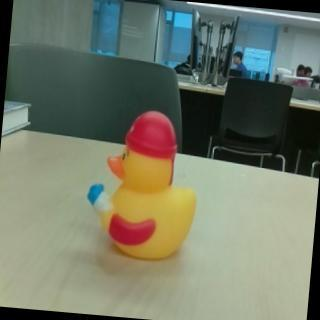duck_specialty: (82, 104, 207, 266)
